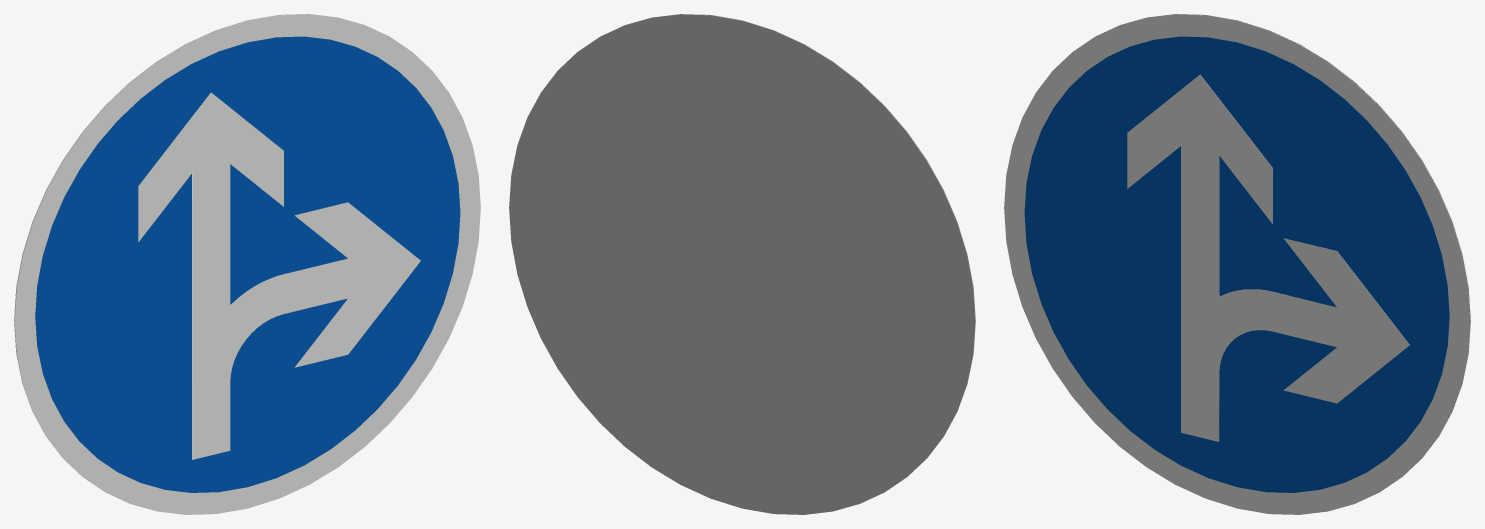
The picture shows the model from 3 angles, left to right: view 1: azimuth 30°, elevation 25°; view 2: azimuth 150°, elevation 25°; view 3: azimuth 330°, elevation 25°; orthographic projection.
Visible parts, largest first — view 1: B21d1_p01, B21d1_p02, B21d1_p00, B21d1_dos; view 2: B21d1_dos, B21d1_p00; view 3: B21d1_p01, B21d1_p02, B21d1_p00, B21d1_dos.
Boxes of the visible parts, x1=… form: B21d1_p01: x1=35, y1=36, x2=460, y2=492; B21d1_p02: x1=138, y1=92, x2=420, y2=459; B21d1_p00: x1=14, y1=14, x2=480, y2=514; B21d1_dos: x1=14, y1=14, x2=385, y2=473; B21d1_dos: x1=509, y1=14, x2=975, y2=514; B21d1_p00: x1=604, y1=14, x2=975, y2=473; B21d1_p01: x1=1024, y1=36, x2=1449, y2=492; B21d1_p02: x1=1127, y1=74, x2=1409, y2=441; B21d1_p00: x1=1004, y1=14, x2=1470, y2=514; B21d1_dos: x1=1099, y1=14, x2=1470, y2=473.
Size of the model in its own units: 0.85 by 0.8498 by 0.0027.
